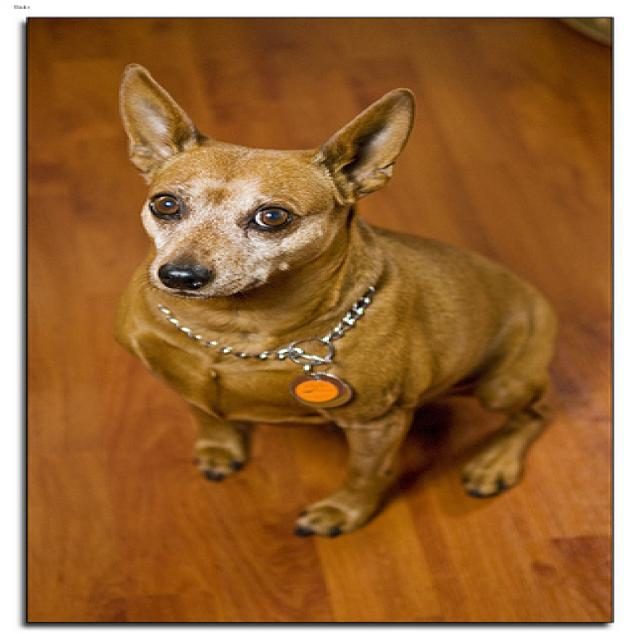dog-miniature_pinscher: (101, 52, 571, 545)
